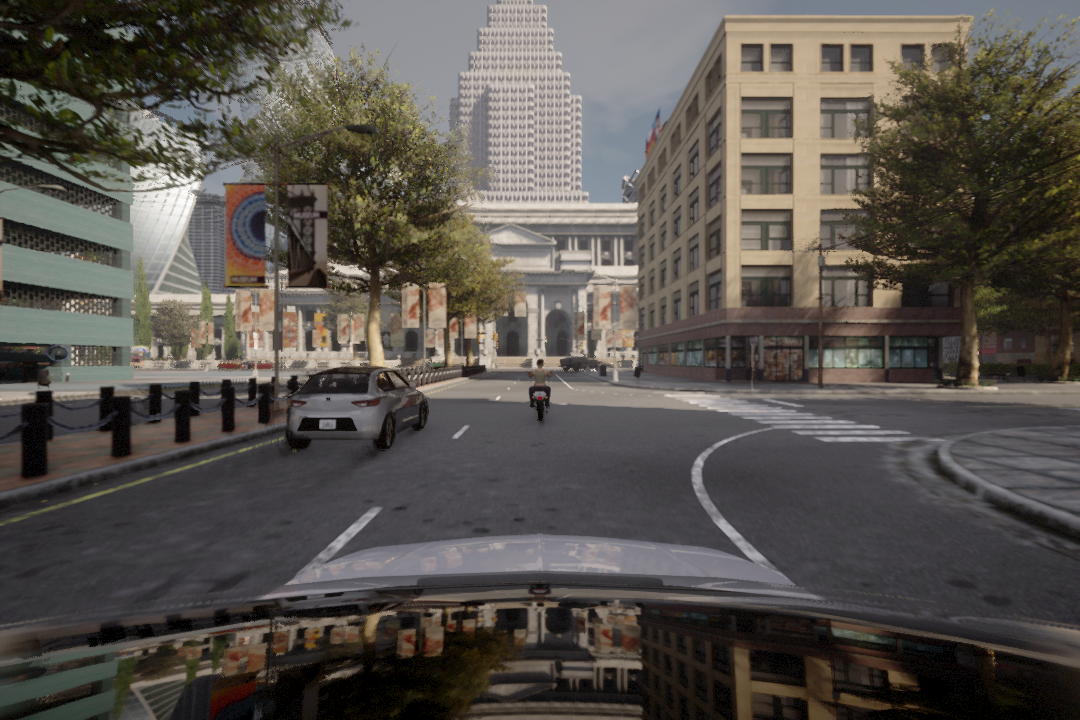walkside: (663, 392, 922, 446)
